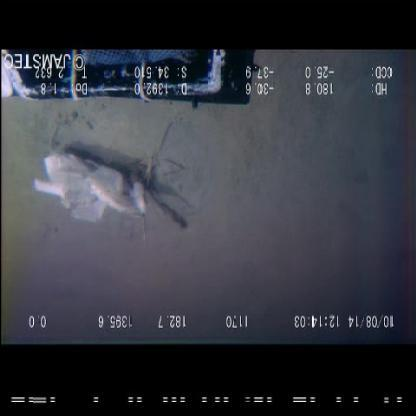Rác: (29, 142, 147, 225)
